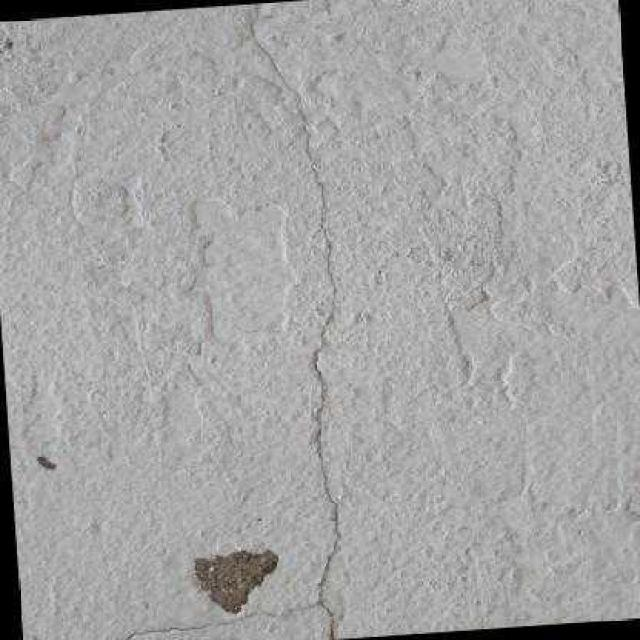D00: (103, 3, 343, 640)
